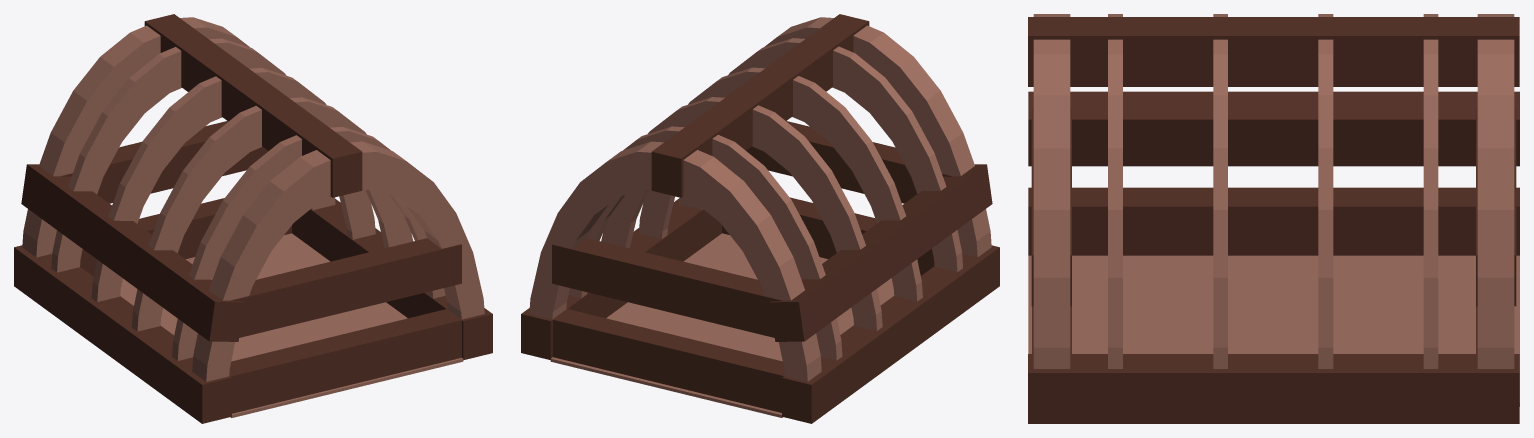
Rendered from cage.glb.
3 views of the same model, side by side, from view 1: azimuth 30°, elevation 25°; view 2: azimuth 150°, elevation 25°; view 3: azimuth 270°, elevation 25° (orthographic). The views are drawn at different scales.
Visible parts, largest first — view 1: cage; view 2: cage; view 3: cage.
Part boxes in pixels (x1,y1,x2,y2): cage: [14, 14, 492, 423]; cage: [521, 14, 999, 423]; cage: [1028, 14, 1519, 423].
Size of the model in its own units: 2.44 by 1.88 by 2.73.
